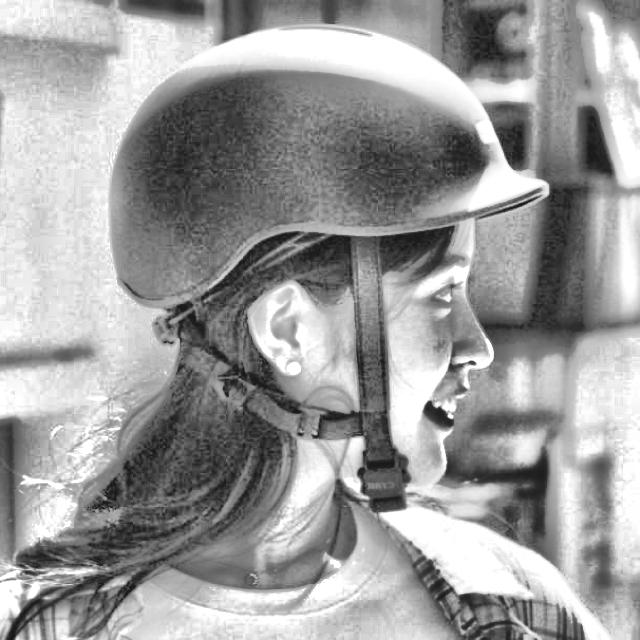Helmet: (98, 9, 559, 520)
